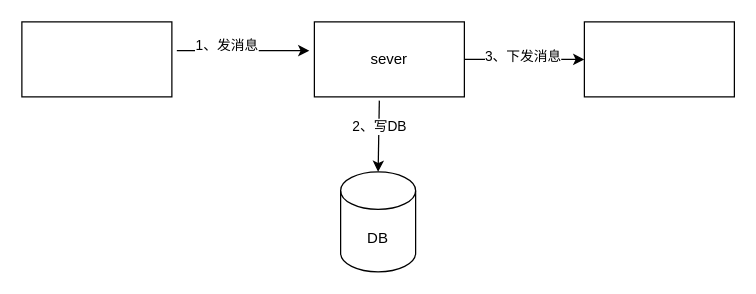
Some shapes in this 756 by 294 pixel diagram are drawn without their labels. The box of each missing label's shape, as (x1, y1, x2, y2) in pixels:
client A: (21, 21, 172, 97)
client B: (583, 21, 734, 97)
